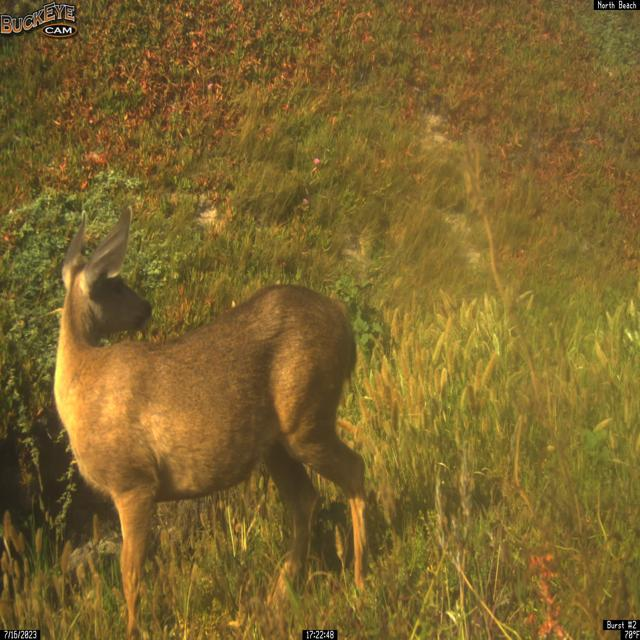deer: (52, 205, 370, 640)
